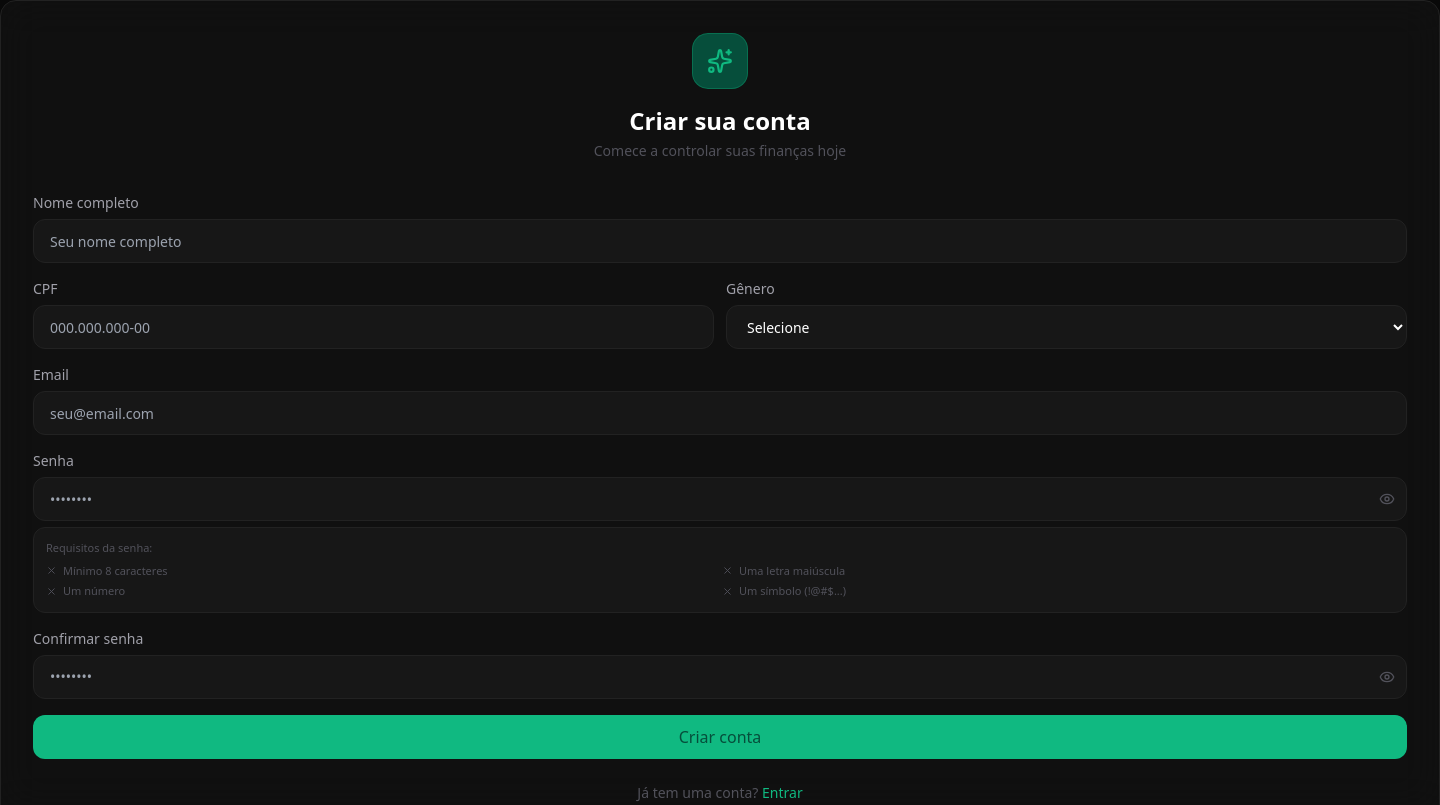
RegisterPage › deve exibir erro quando senhas não coincidem
# Usa getAllByLabelText e selecciona pelo id
Type "Aurel Teste" into the field labelled "Nome completo" at coordinates (720, 241), box [33,219,1407,263]
Type "52998224725" into the field labelled "CPF" at coordinates (374, 327), box [33,305,714,349]
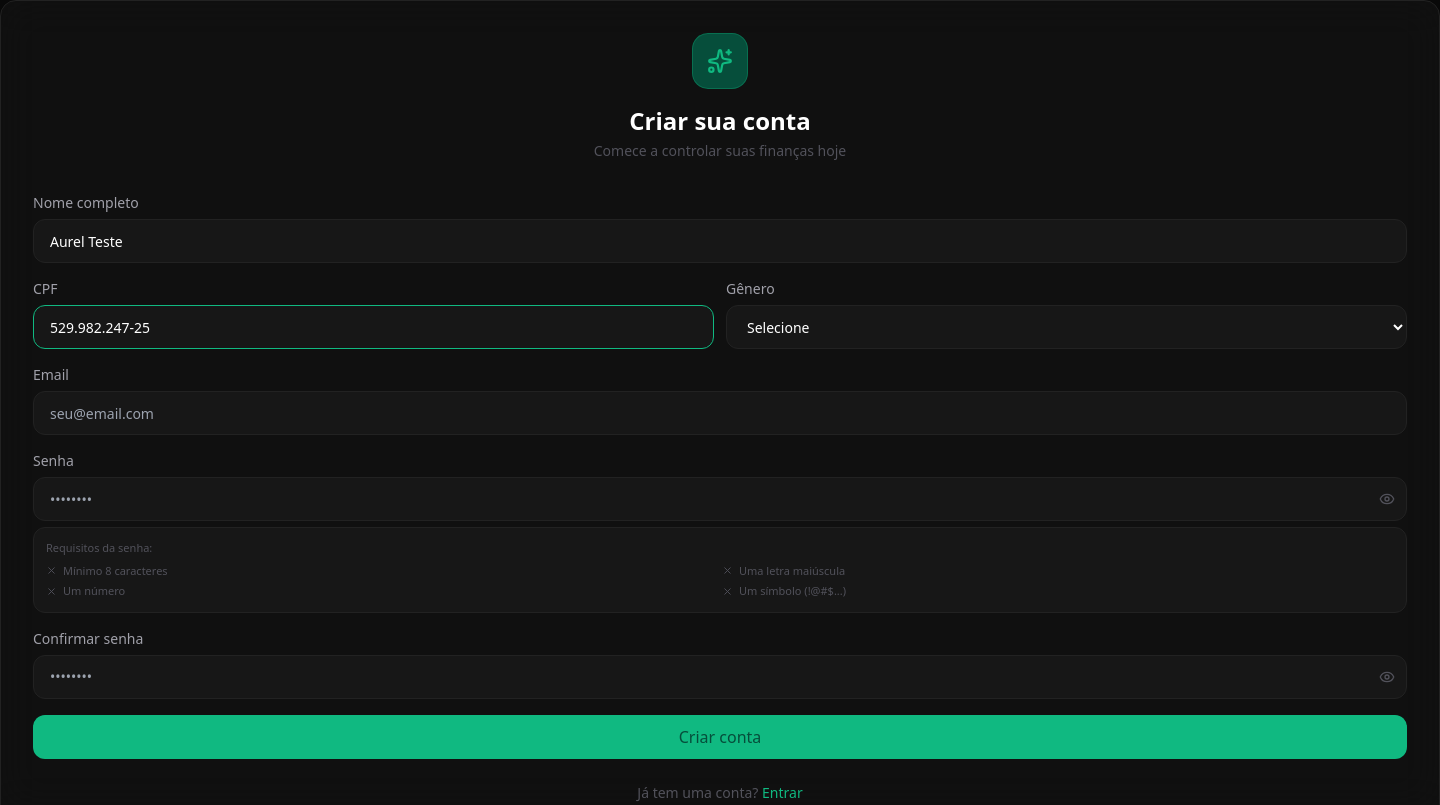
Select "Masculino" in the dropdown labelled "Gênero" at coordinates (1066, 327), box [726,305,1407,349]
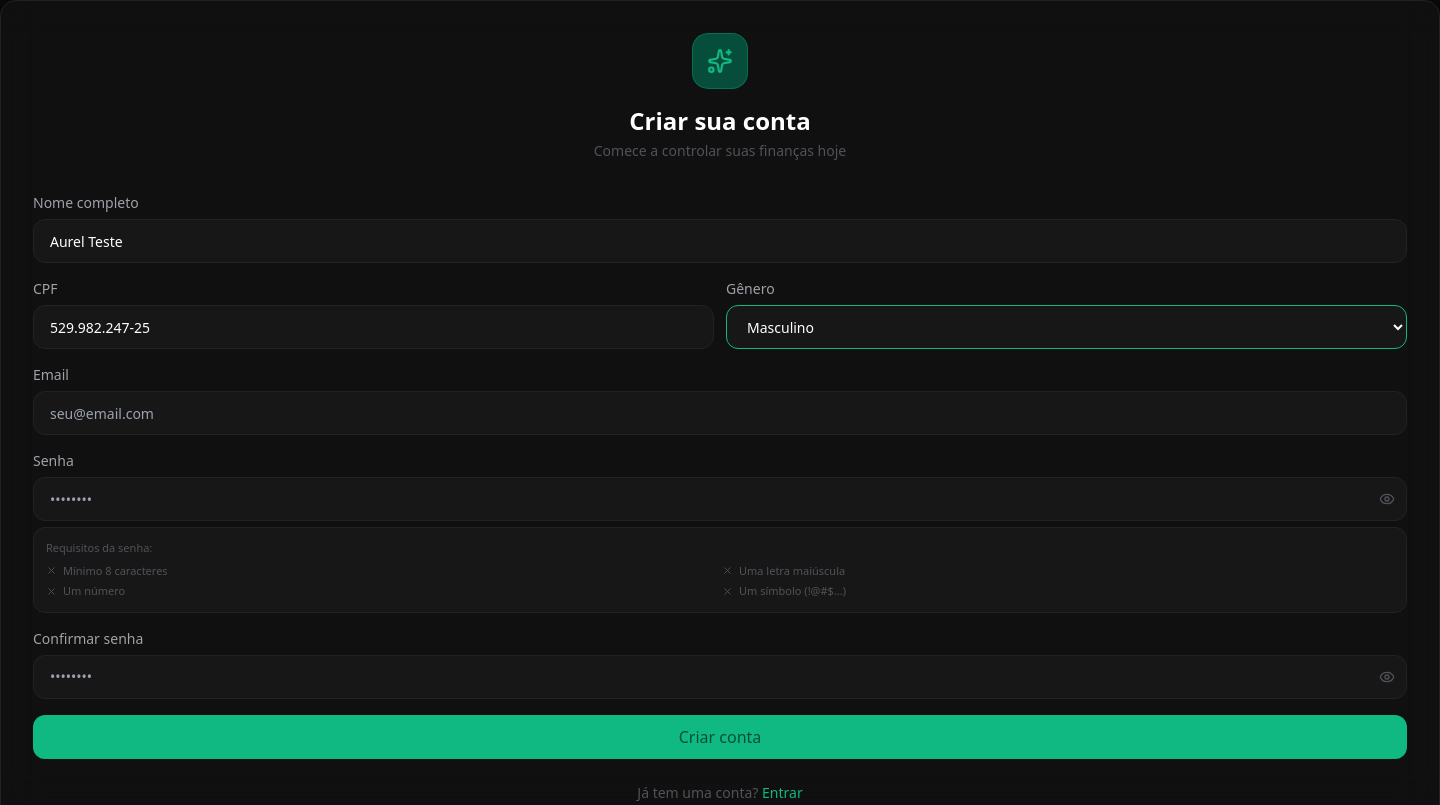
Type "aurel@teste.com" into the field labelled "Email" at coordinates (720, 413), box [33,391,1407,435]
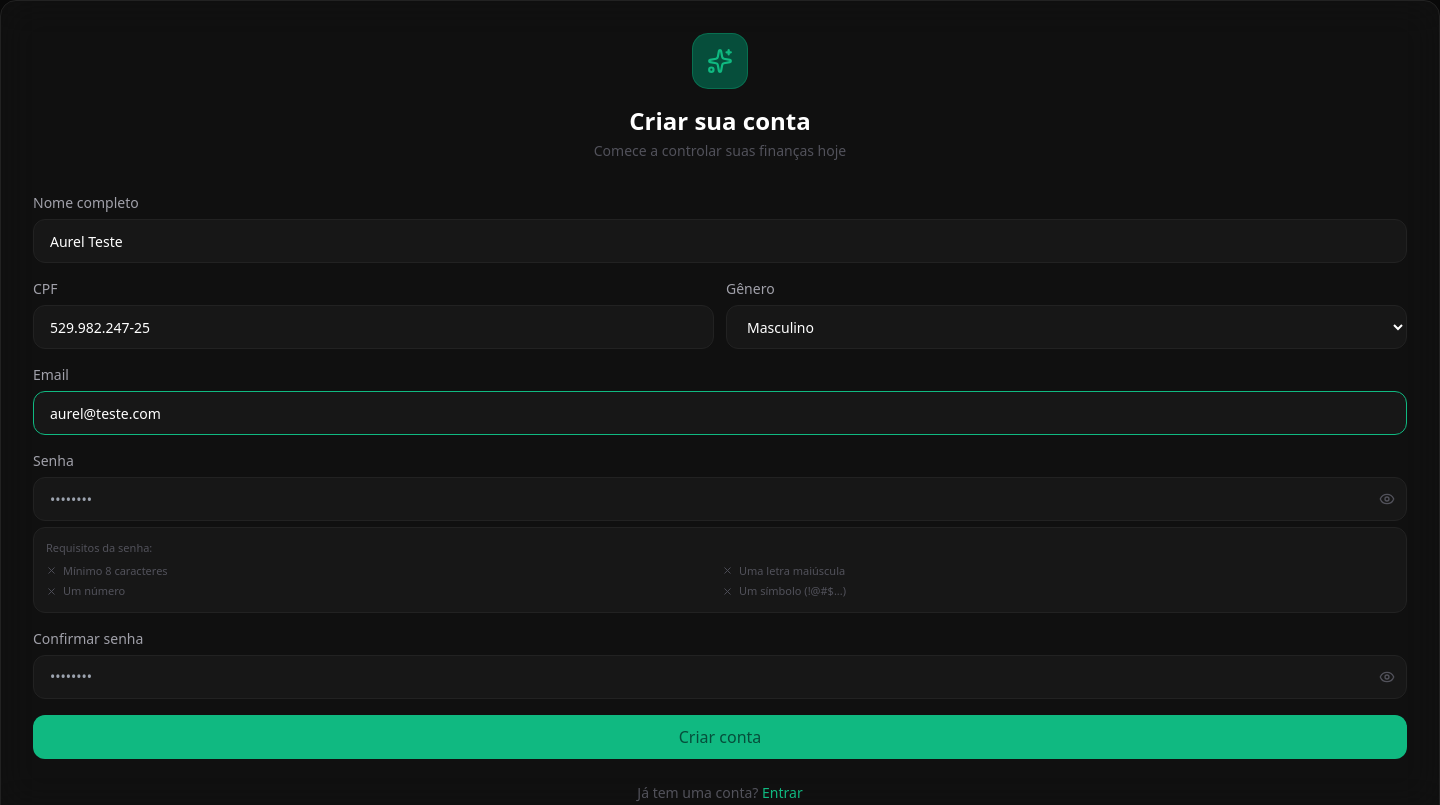
Type "Senha@123" into the password field labelled "Senha" at coordinates (720, 499), box [33,477,1407,521]
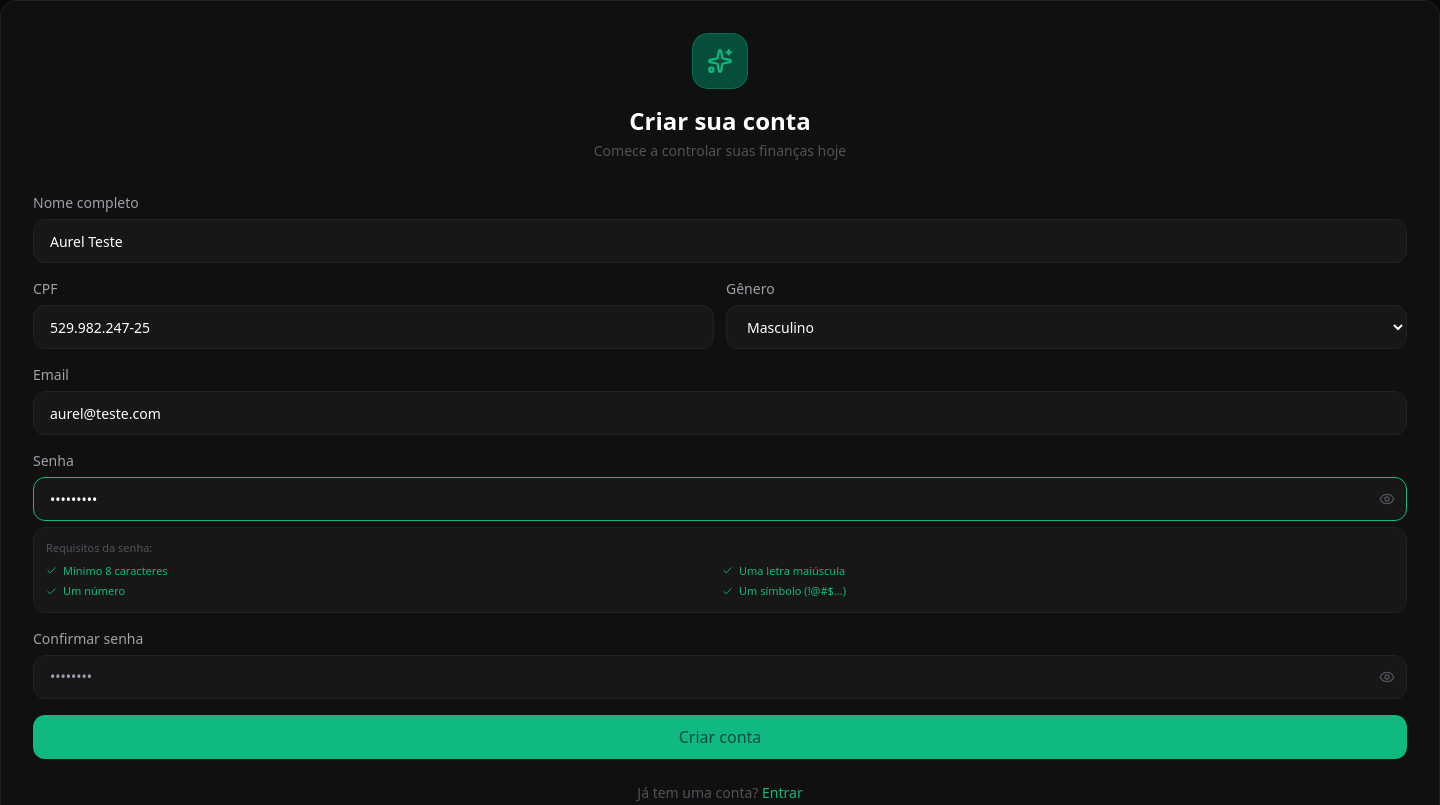
Type "Diferente@123" into the password field with id "confirmPassword" at coordinates (720, 676), box [33,654,1407,698]
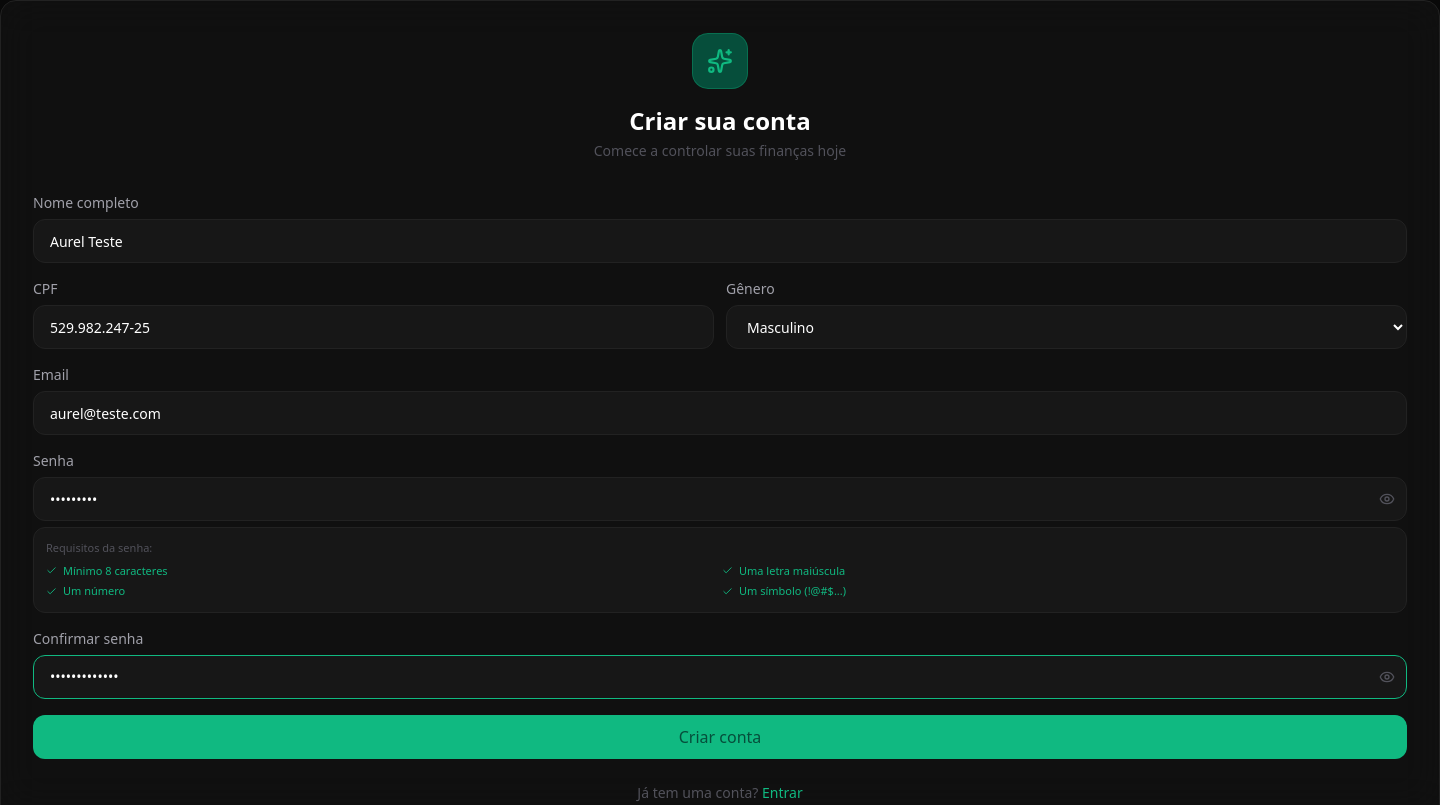
Click the button "Criar conta" at coordinates (720, 736), box [33,714,1407,758]
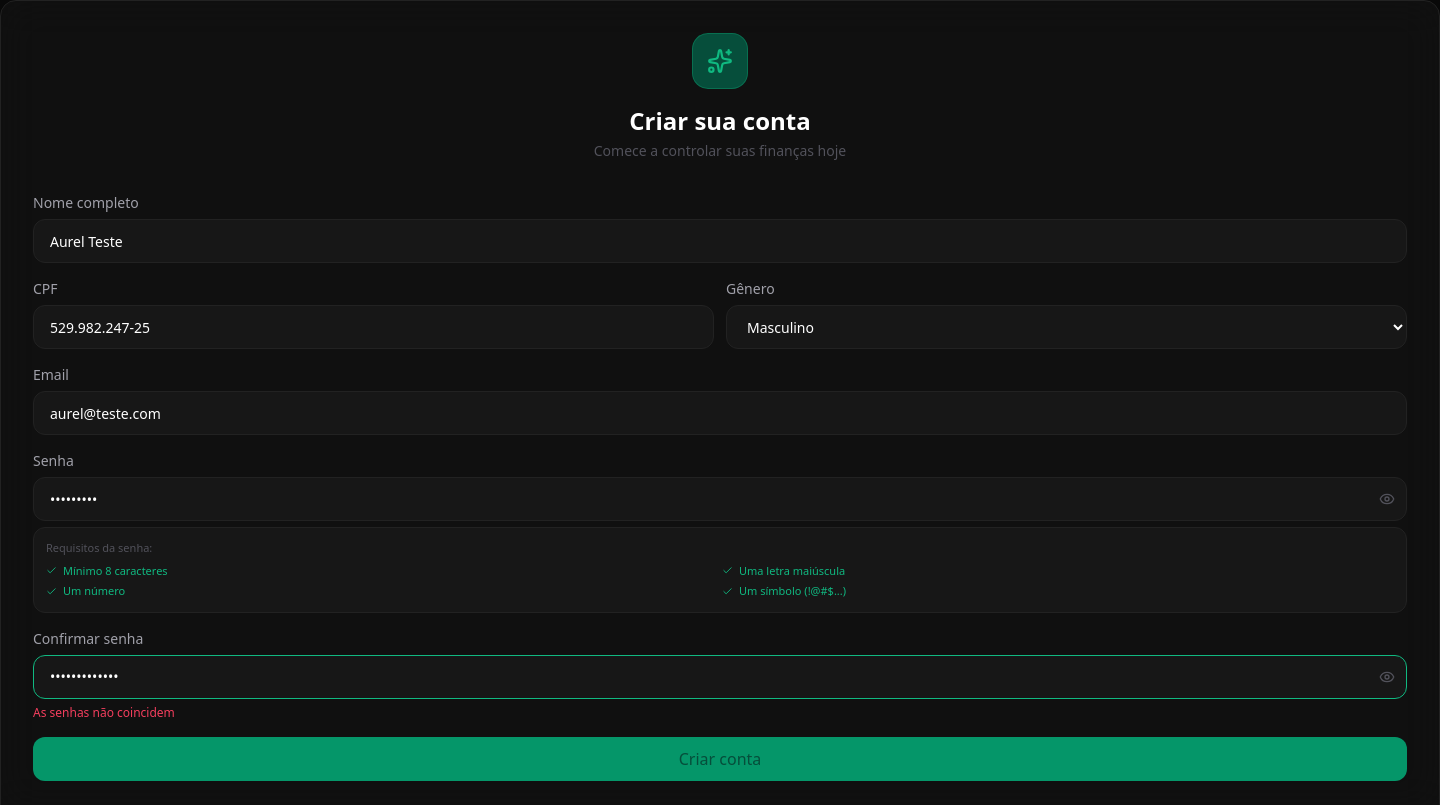
Now the text "As senhas não coincidem" is shown, box [33,704,175,720]
